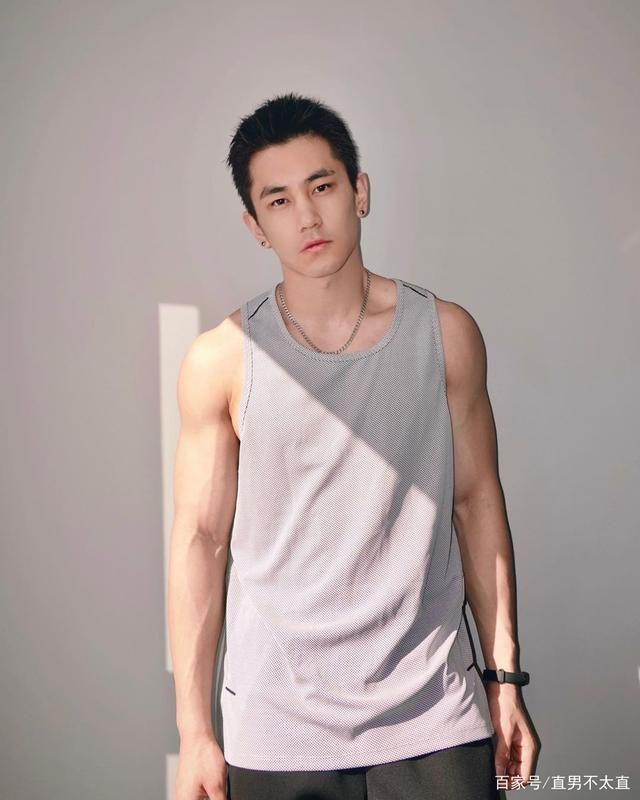person: (127, 81, 539, 797)
